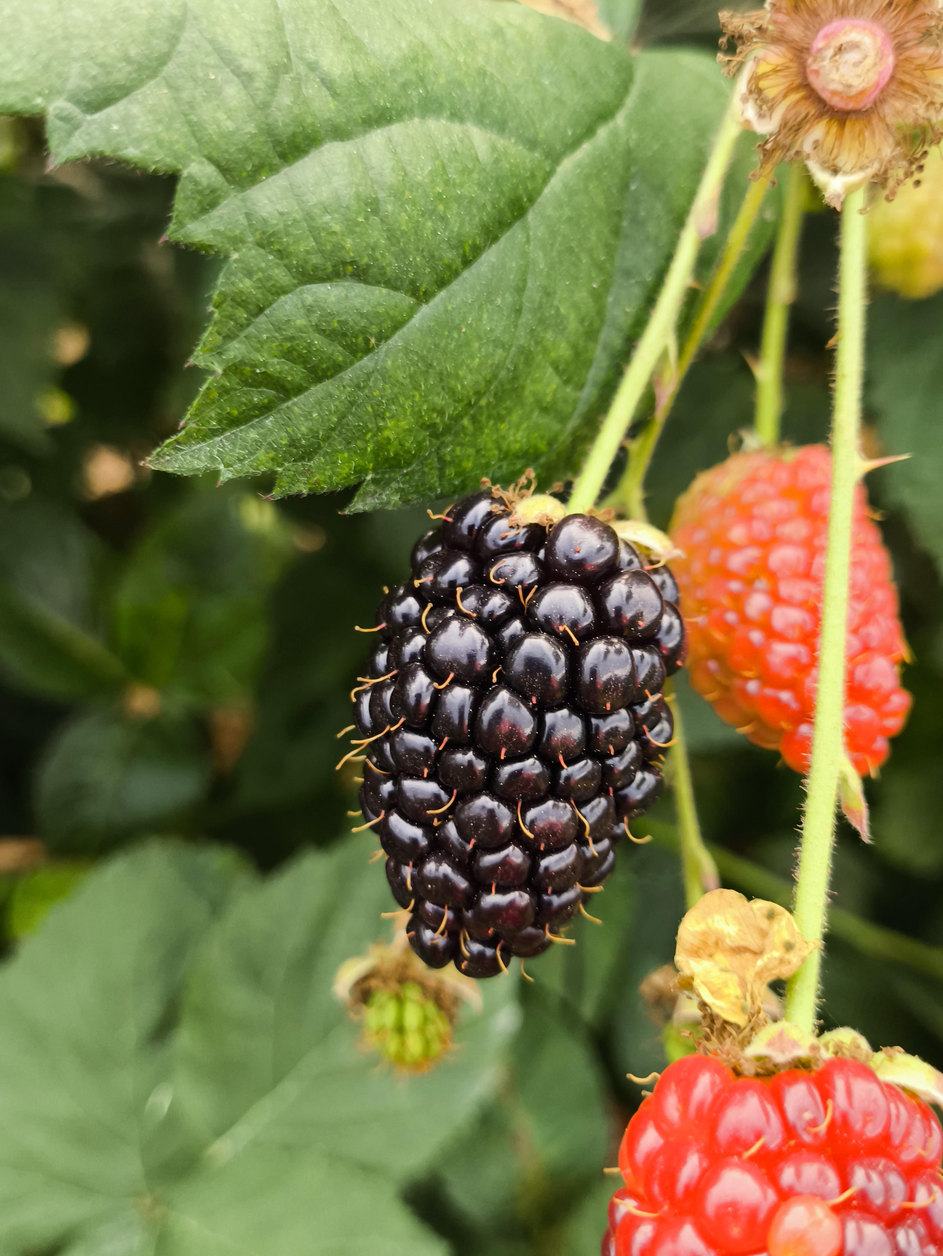maduro: (357, 497, 674, 971)
